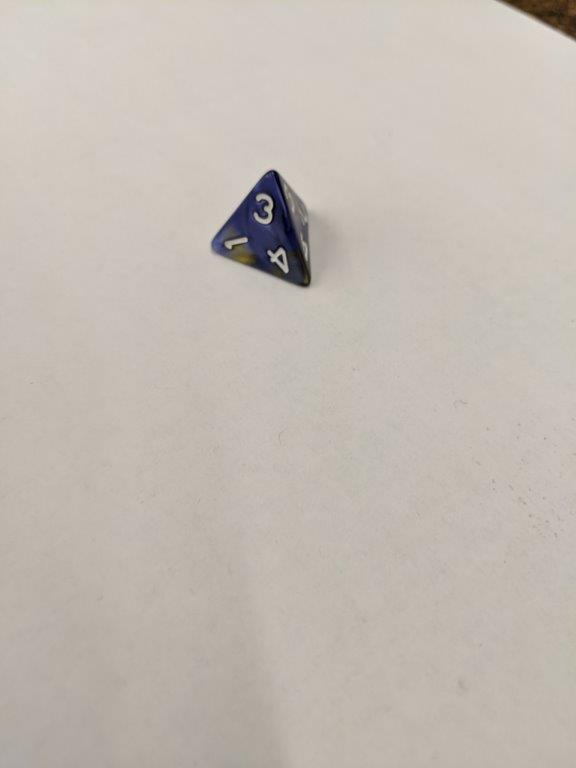d4-3: (210, 165, 319, 294)
